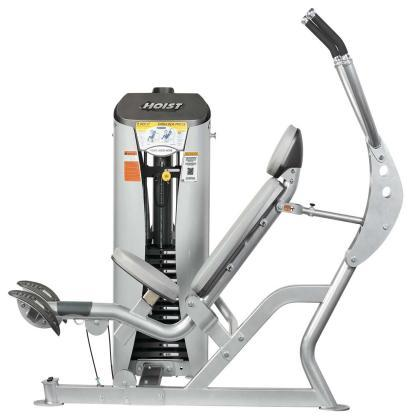shoulder press machine: (0, 3, 416, 416)
